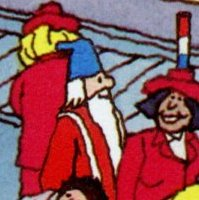wb: (62, 37, 114, 110)
